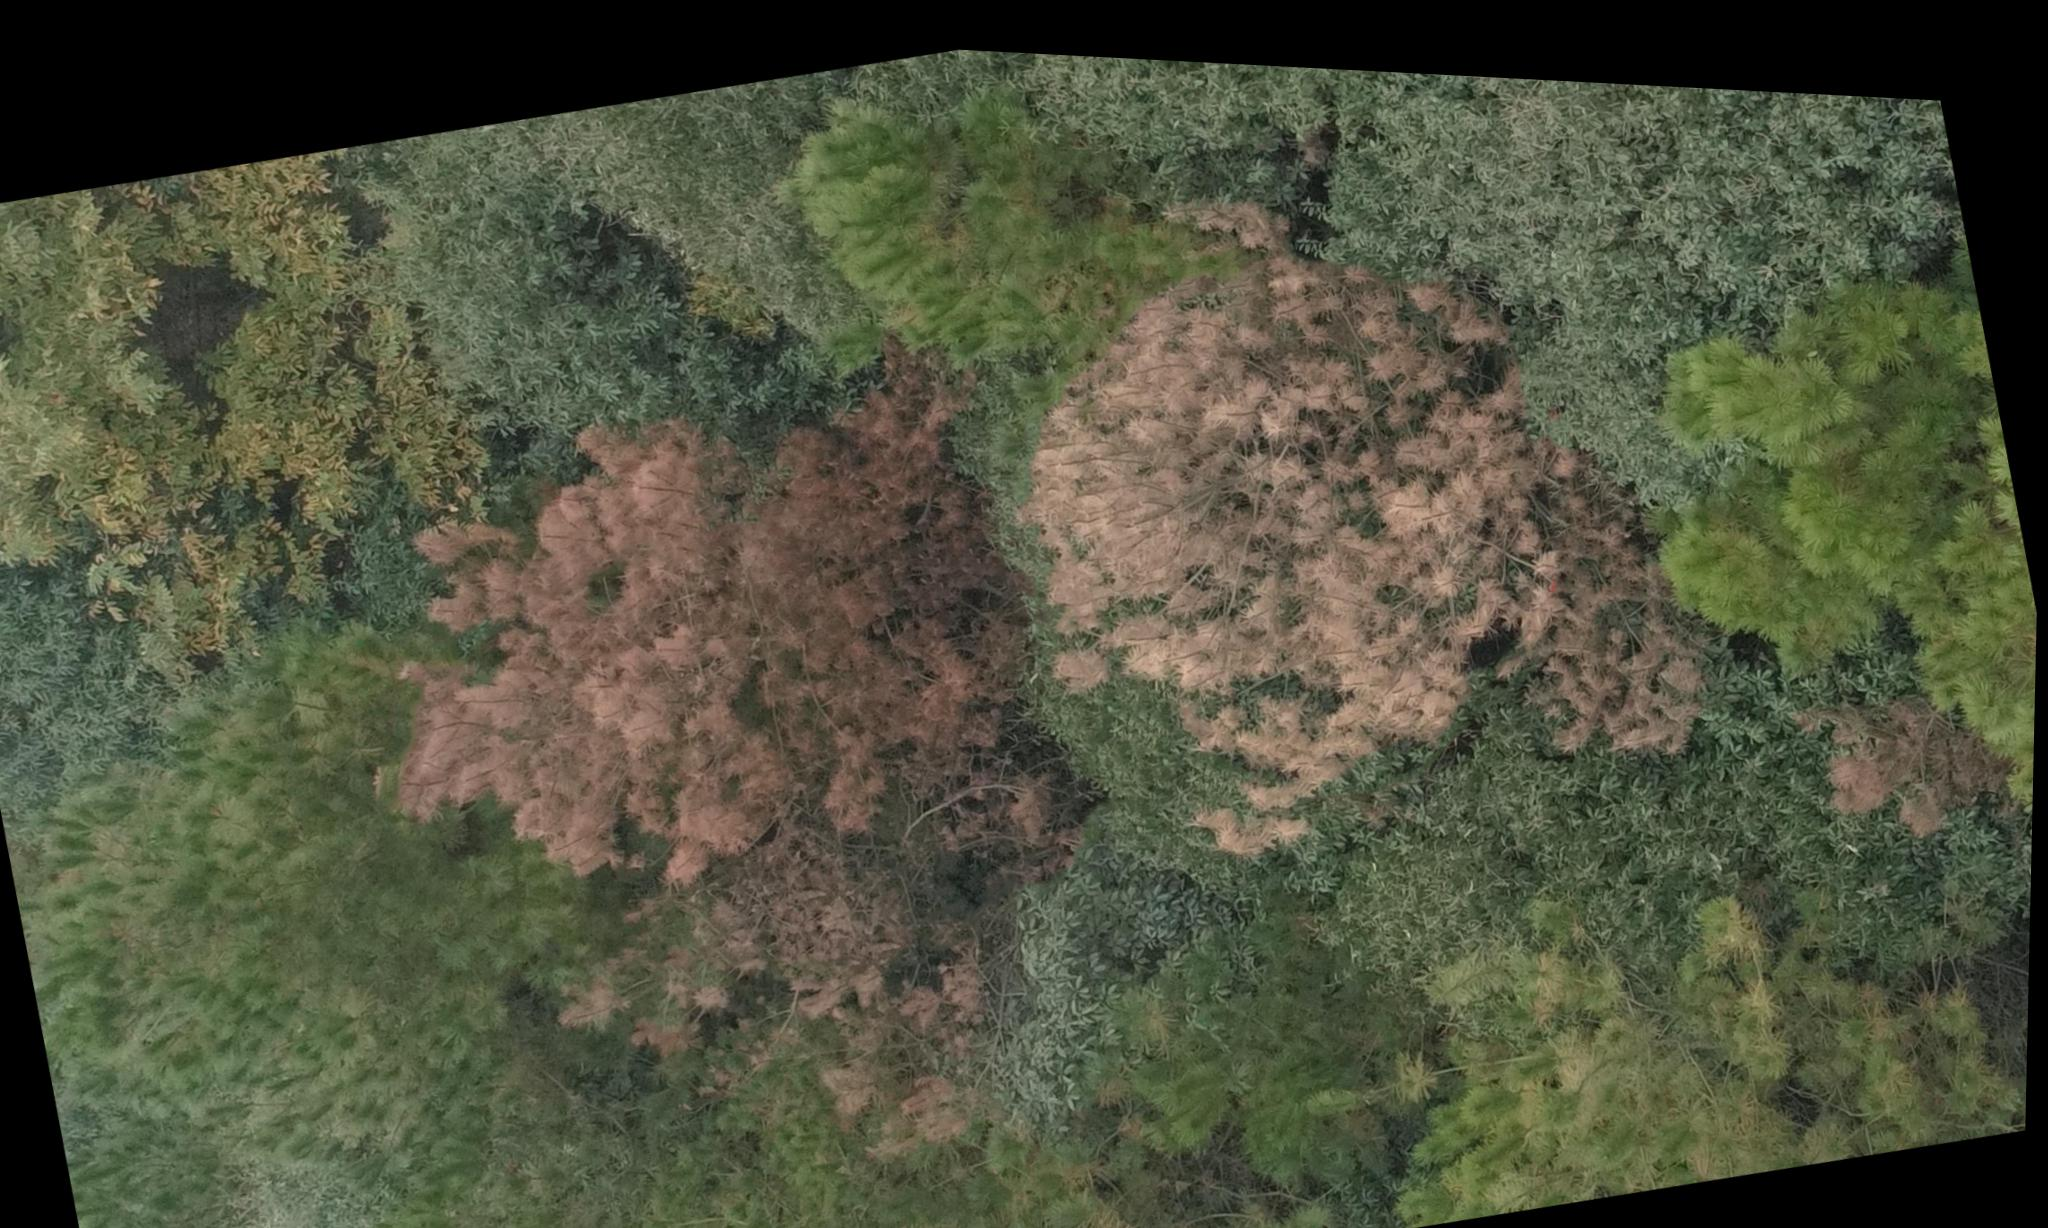heavy: (329, 304, 1093, 1111), (974, 133, 1726, 895)
